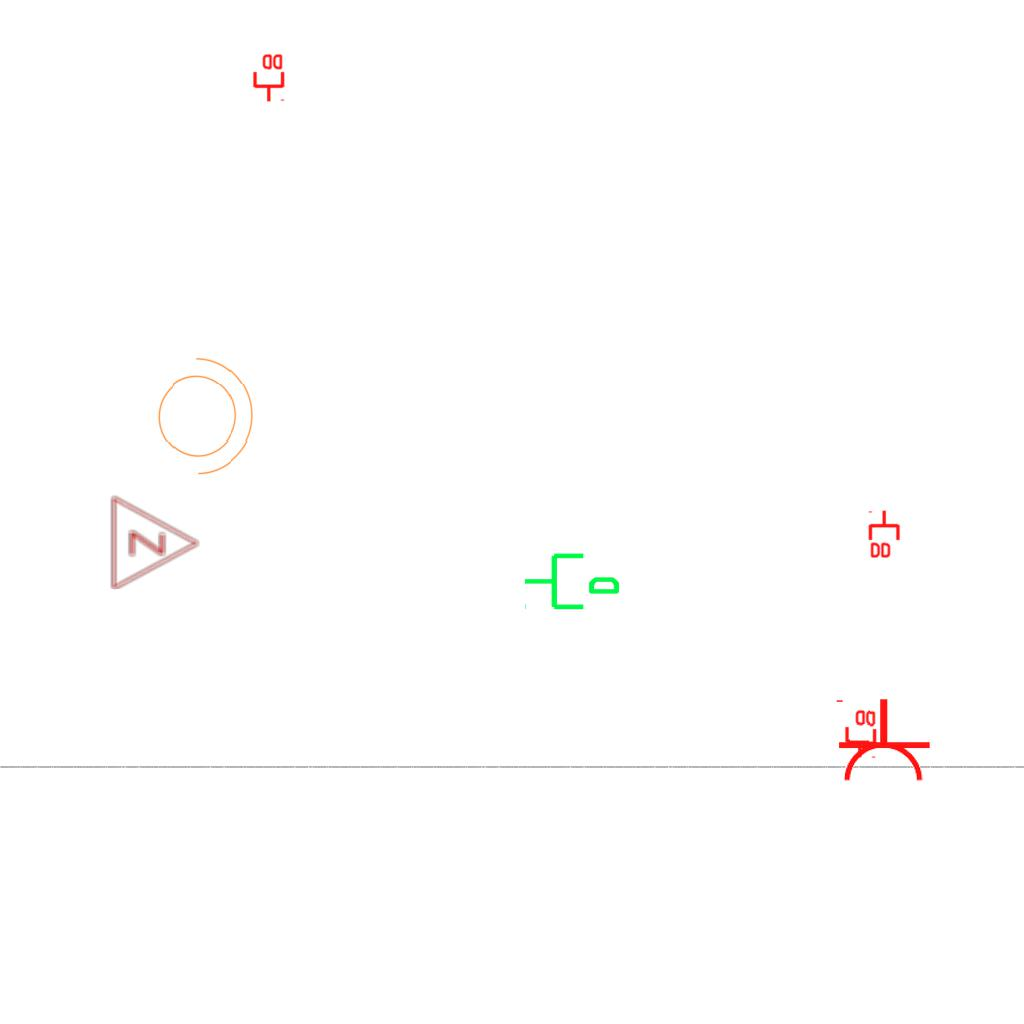Datenanschluss_einfach: (522, 545, 622, 614)
Datenanschluss_zweifach: (841, 707, 879, 760), (250, 51, 286, 104), (867, 508, 903, 561)
Scheinwerfer_fuer_Alarmbeleuchtung: (144, 346, 260, 480)
Schukosteckdose_einfach: (832, 697, 932, 784)
Zimmersignalleuchte: (105, 493, 205, 591)
